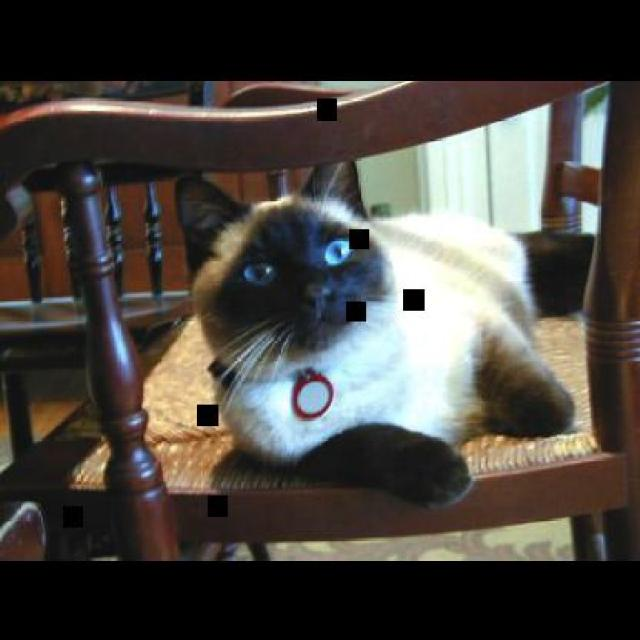unauthorized: (172, 157, 576, 509)
